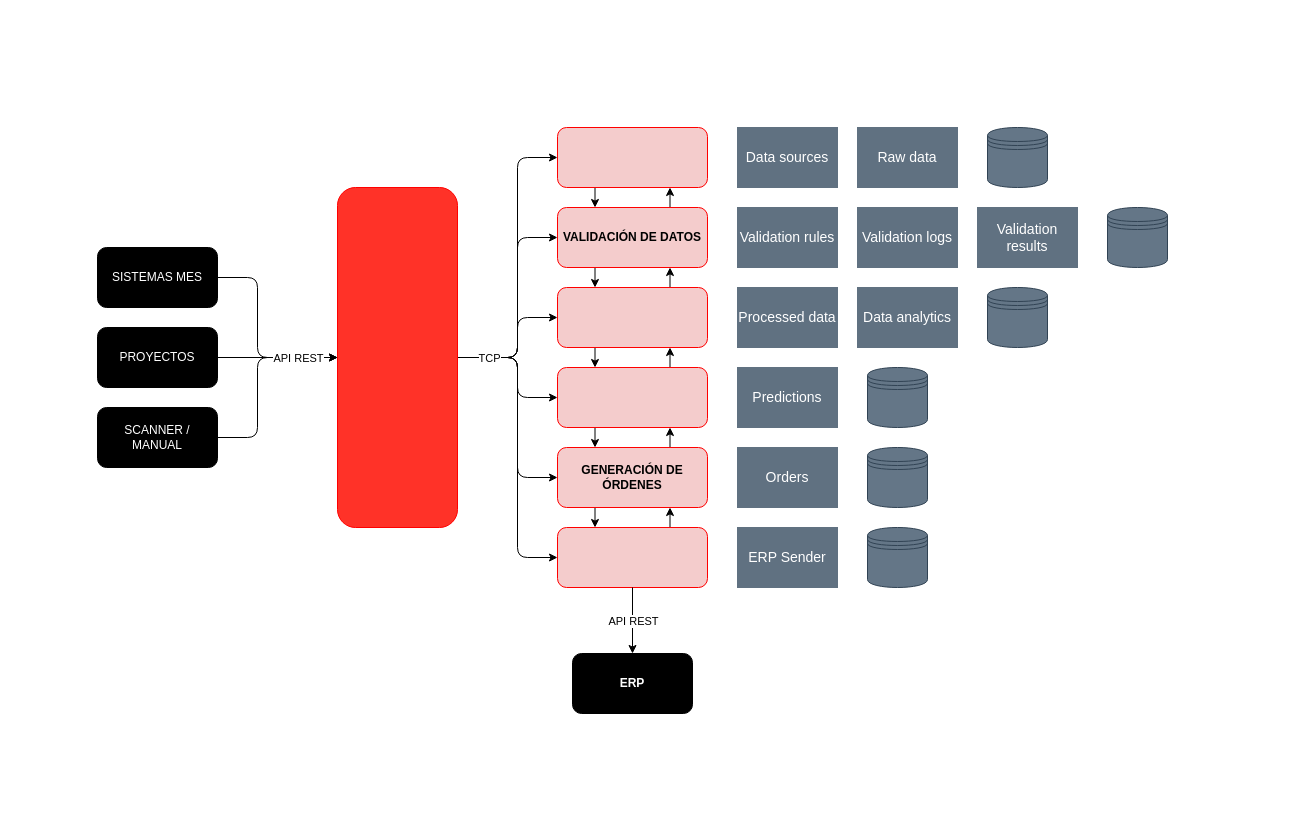
Image size: 1304x834. Some labels were removed from this diagram. The shapes that lost their labels are listed below. From the top down, each one's centre as x and y in pixels, then its label:
At point 632,157: "INGESTA DE DATOS".
At point 632,317: "PROCESAMIENTO DE DATOS Y ANÁLISIS".
At point 397,357: "GATEWAY".
At point 632,397: "PREDICCIÓN".
At point 632,557: "INTEGRACIÓN CON ERP".
